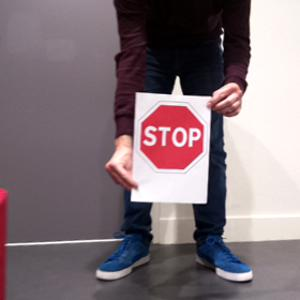stop: (136, 100, 207, 172)
